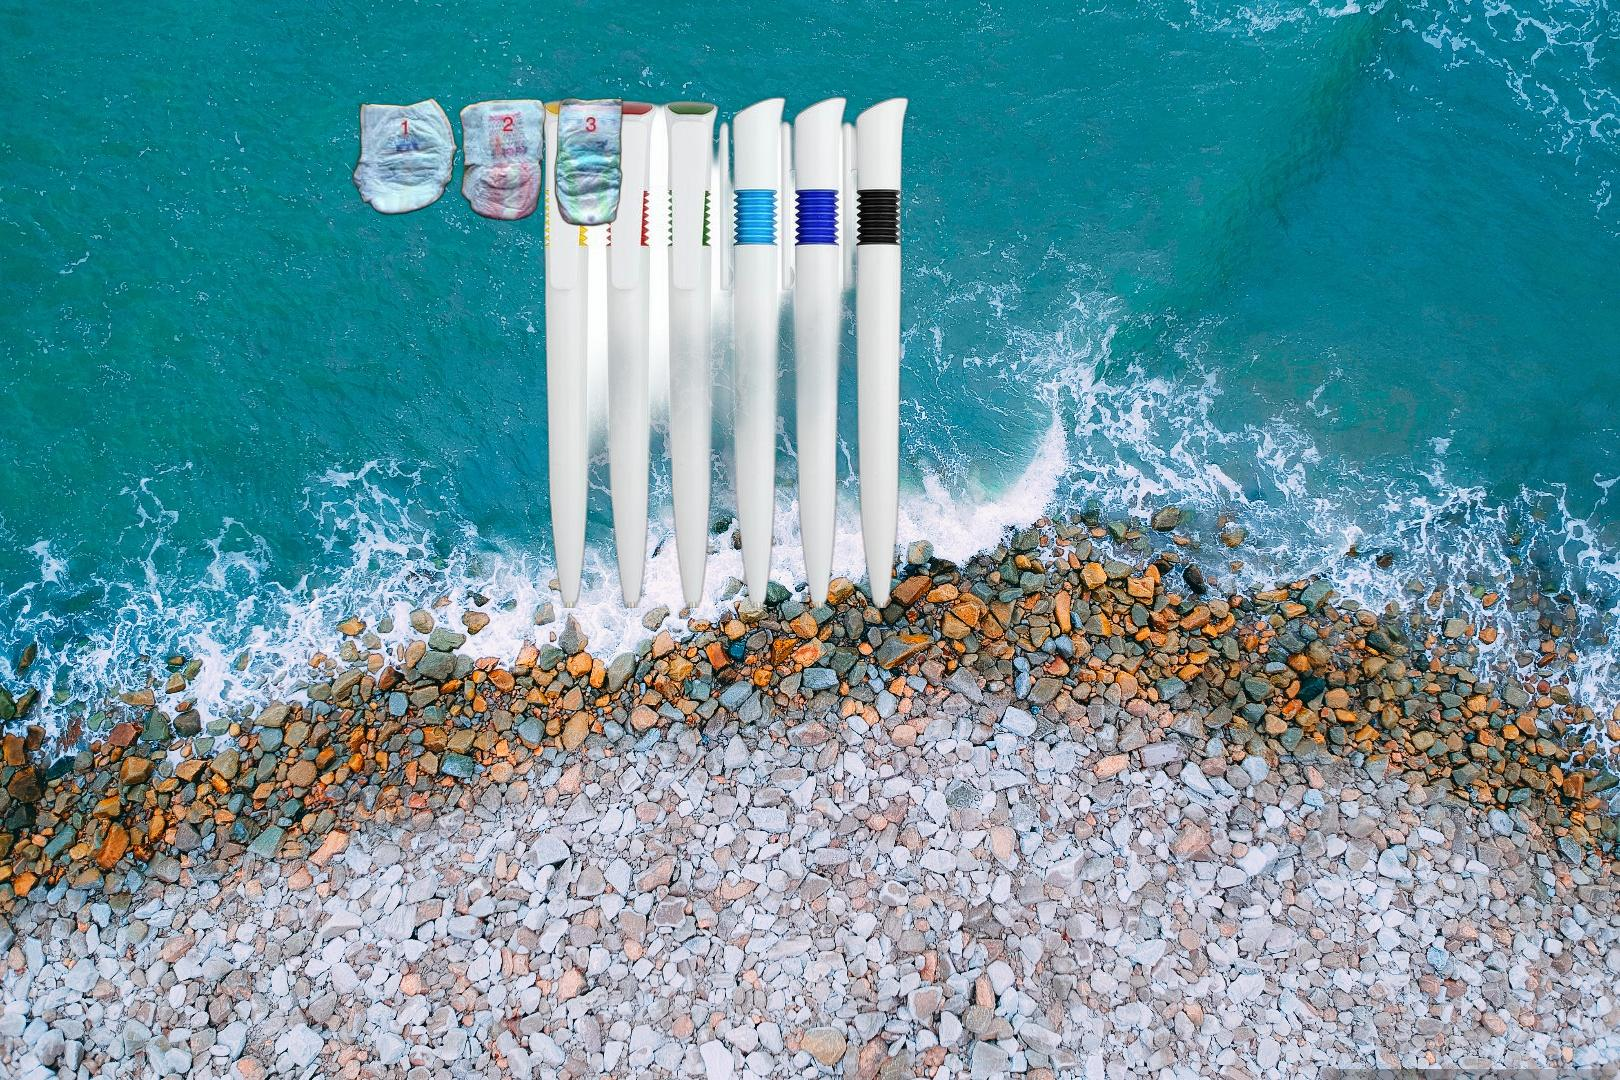biological: (1303, 1005, 1620, 1080)
paper: (1251, 1069, 1620, 1080)
penholder: (501, 93, 912, 607)
trash: (350, 95, 626, 229)
